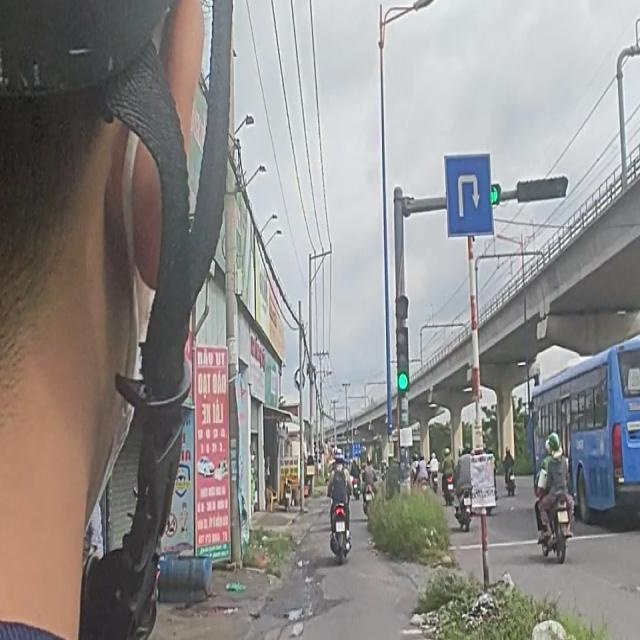I.409: (437, 144, 493, 253)
